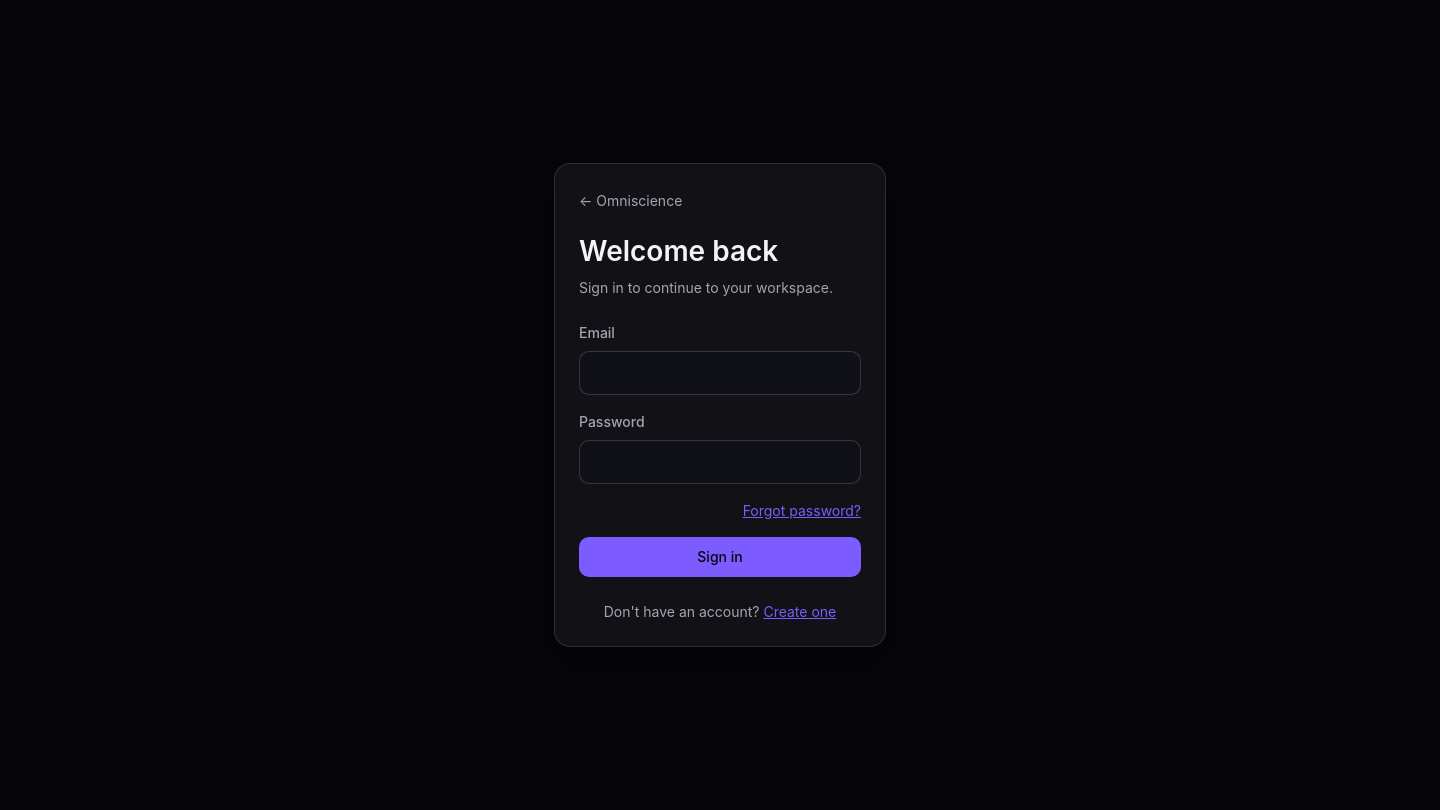
LoginPage › redirects to verify-otp when the backend reports the email isn't verified
The width and height of the screenshot is (1440, 810).
Type "person@example.com" into the field labelled "Email" at (720, 373), box [579,351,861,395]
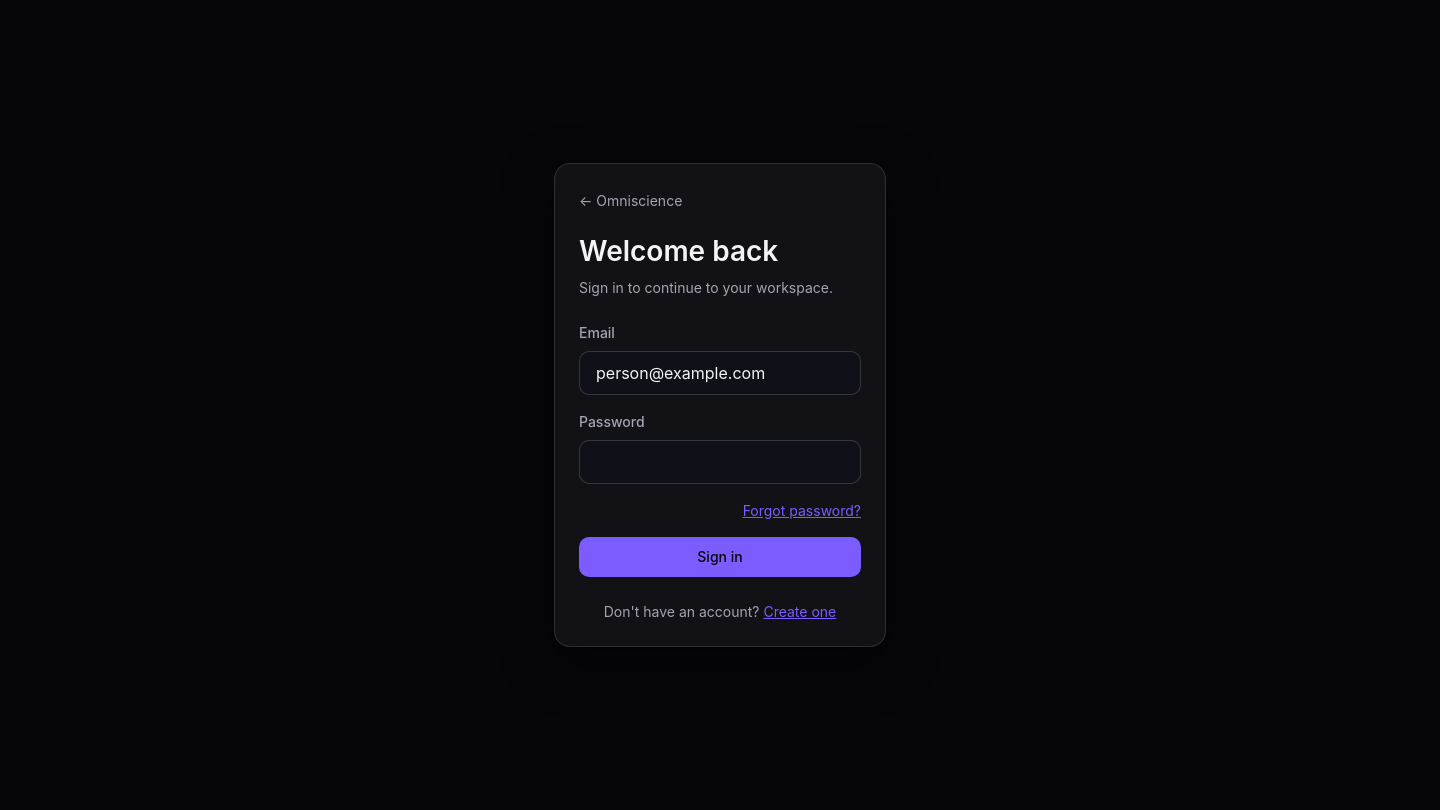
Type "hunter2-Secret!" into the password field labelled "Password" at (720, 462), box [579,440,861,484]
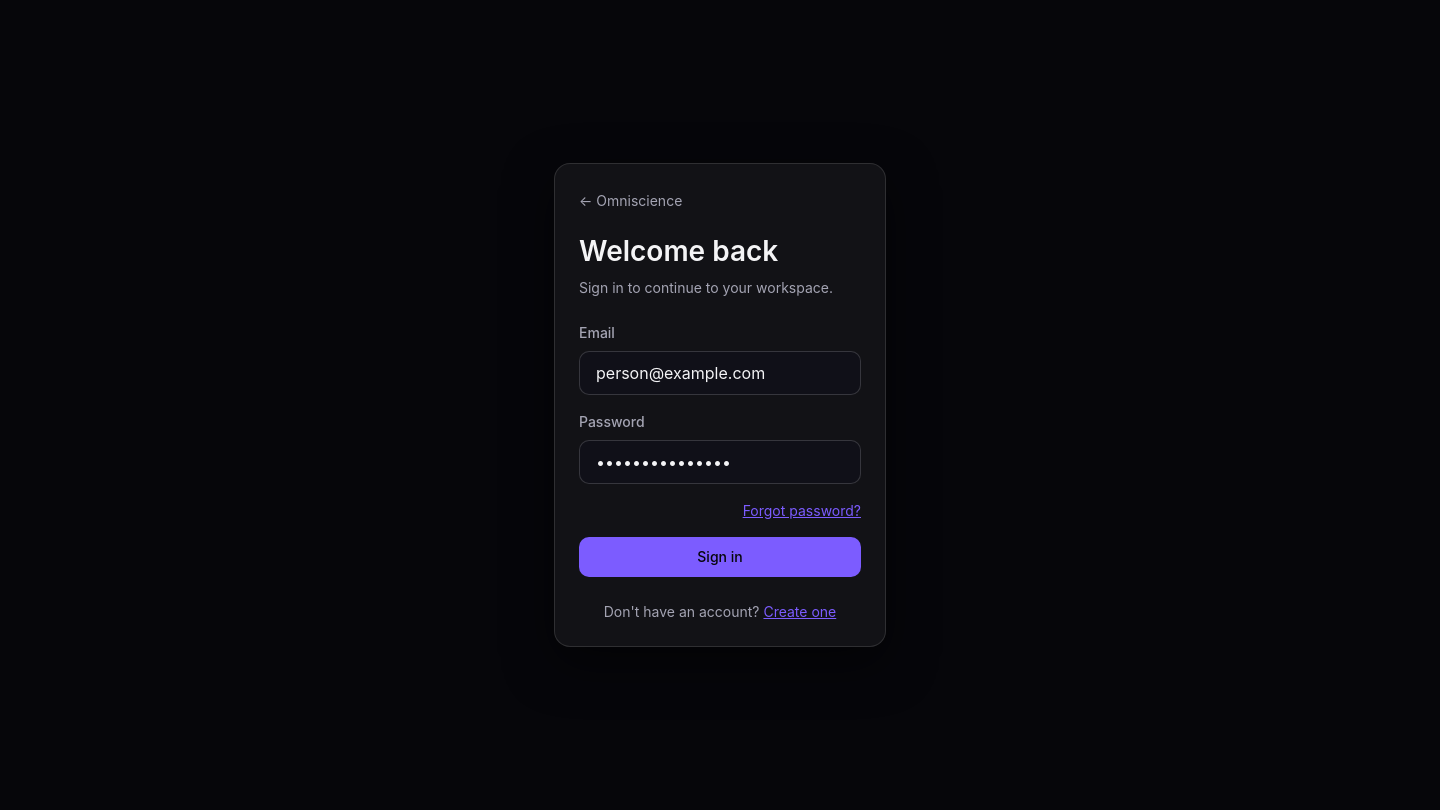
Submit the form "Sign in", box [579,322,861,577]
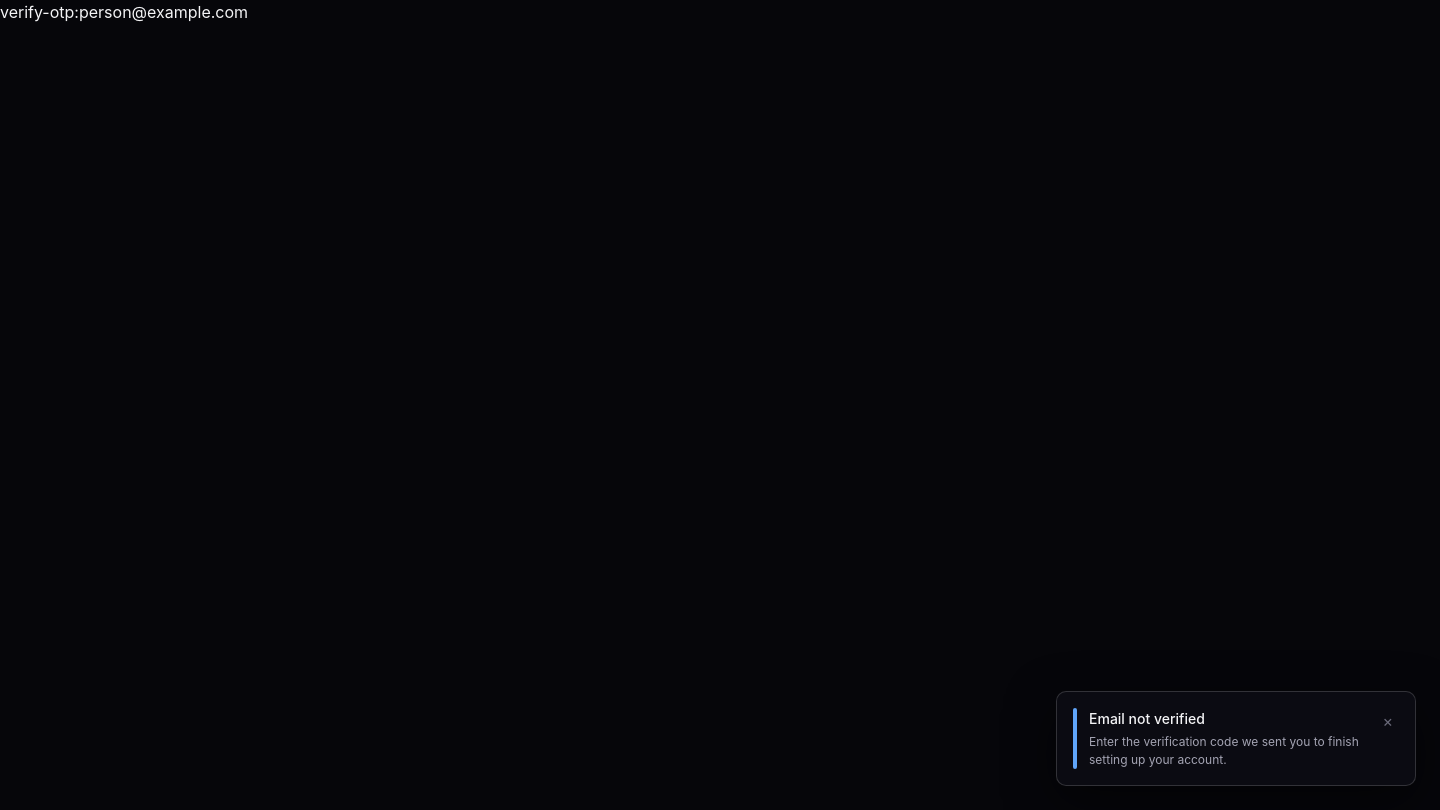
Check: the text "verify-otp:person@example.com" is shown, box [0,2,248,22]
